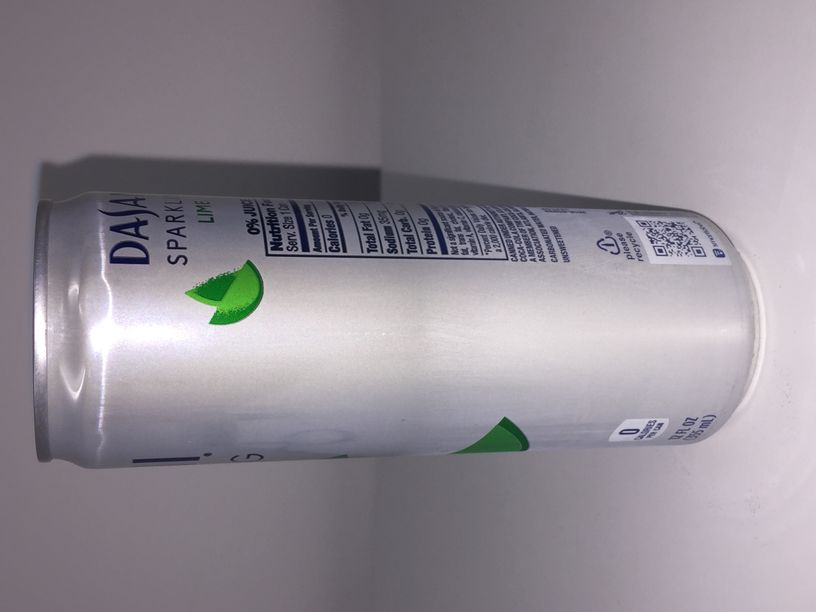lime: (34, 193, 760, 471)
